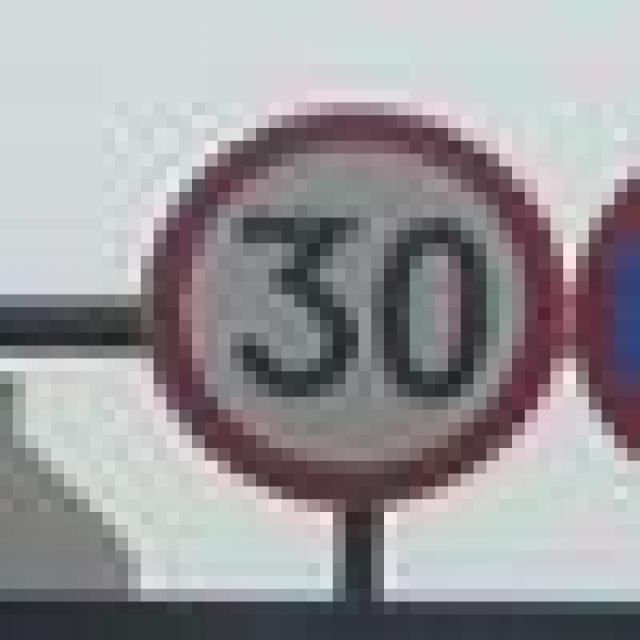SPEED_LIMIT_30: (115, 90, 563, 499)
